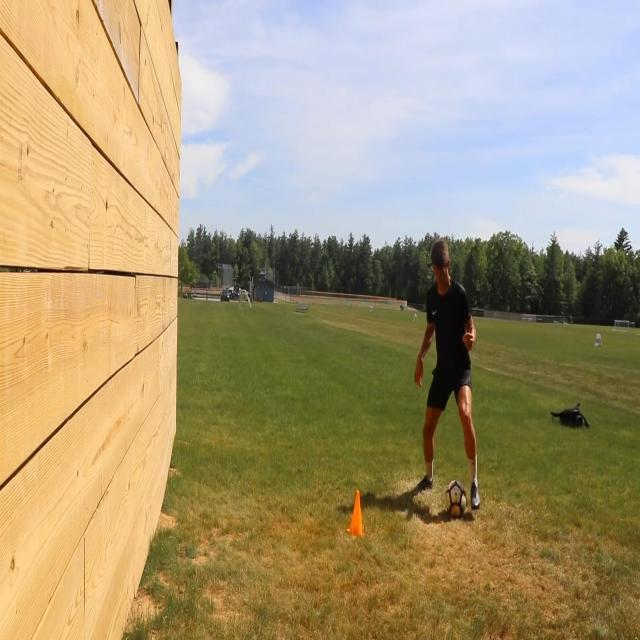Soccer Ball: (443, 478, 467, 521)
